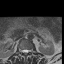CCS_normal: (24, 46, 26, 56)
LFS_normal: (28, 47, 31, 53)
LLS_normal: (26, 47, 28, 54)
RFS_normal: (20, 47, 22, 54)
RLS_normal: (22, 47, 24, 55)
